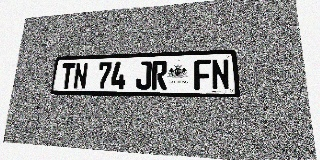4: (110, 62, 127, 90)
7: (96, 62, 112, 90)
F: (194, 59, 211, 90)
J: (135, 61, 152, 90)
N: (211, 59, 230, 90), (73, 63, 88, 90)
R: (151, 60, 167, 90)
T: (60, 63, 75, 89)
